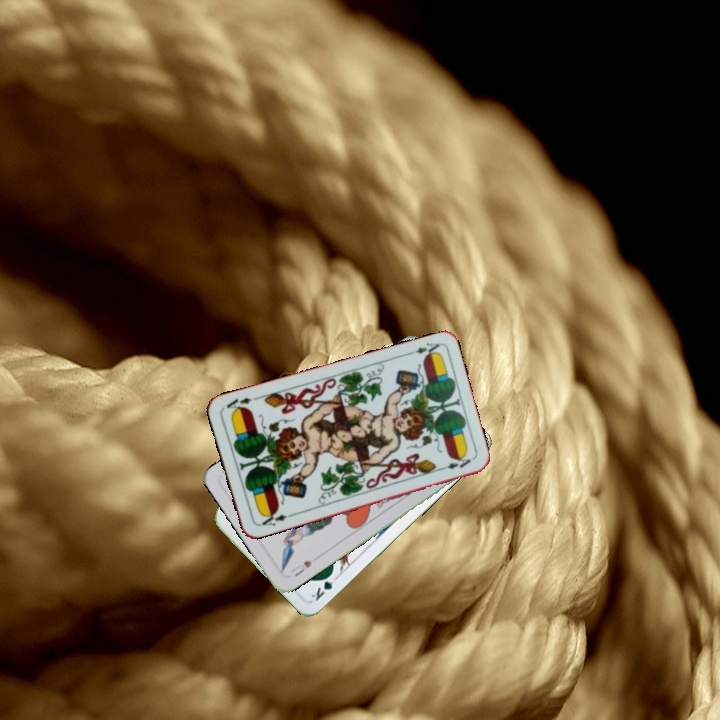EA: (255, 507, 295, 529), (402, 338, 442, 360)
GK: (307, 568, 341, 604)
HU: (287, 556, 315, 579)
